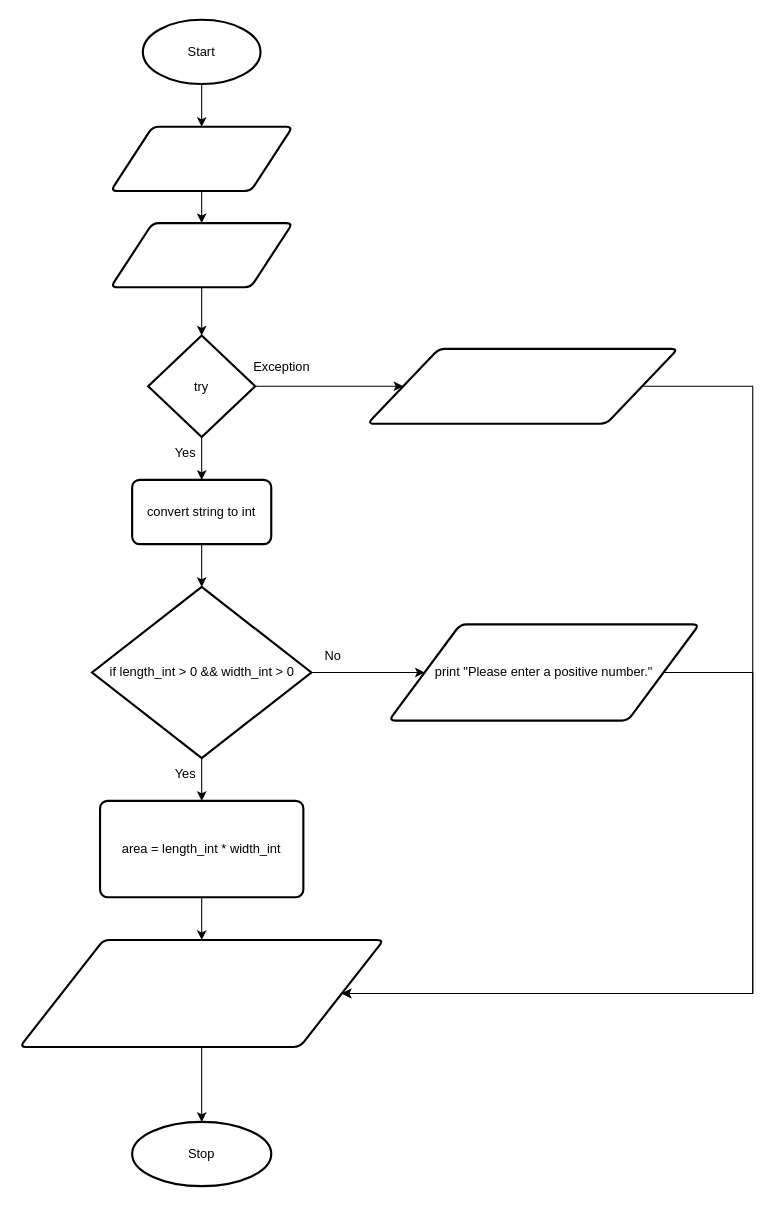
Some shapes in this 780 by 1205 pixel diagram are drawn without their labels. Here are the shapes that lost their labels. From the top down, the centre of each, then its label:
point (201, 158): get length_string
point (201, 254): get width_string
point (522, 385): print "Please enter an integer!"
point (201, 993): print "The area of the rectangle is area."
